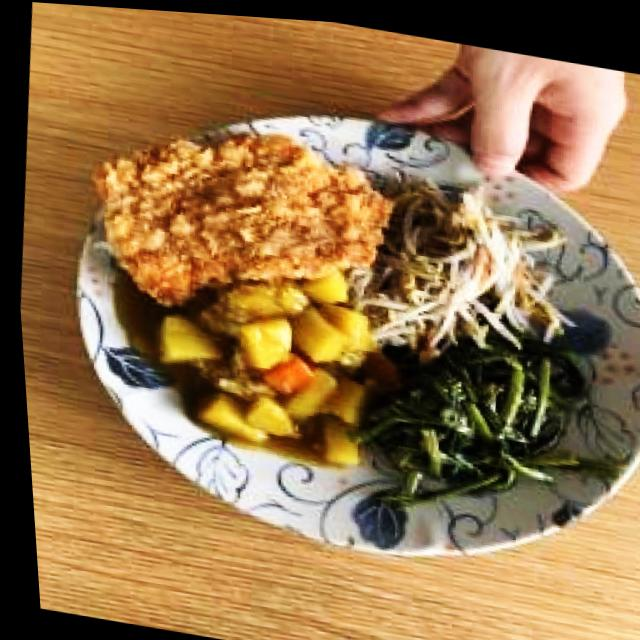curry: (98, 241, 382, 472)
fried_chicken: (80, 105, 402, 342)
mung_bean_sprouts: (365, 169, 577, 379)
water_spinach: (353, 332, 588, 537)
